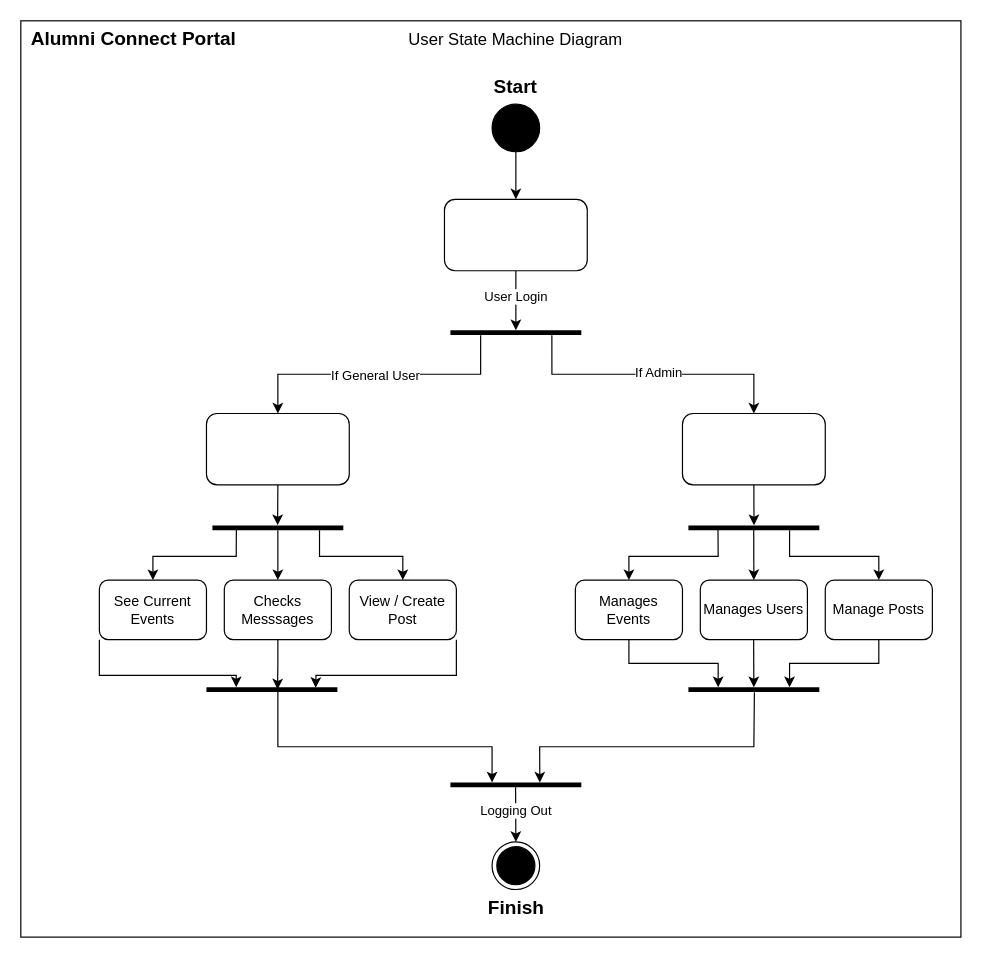
This 982x958 diagram has some shape labels left out. Here are the shapes that lost their labels. From the top down, the box of each, then its label:
(443, 198, 587, 271): Logged Out
(205, 412, 349, 485): Viewing Home Page
(681, 412, 825, 485): On Admin Dashboard
